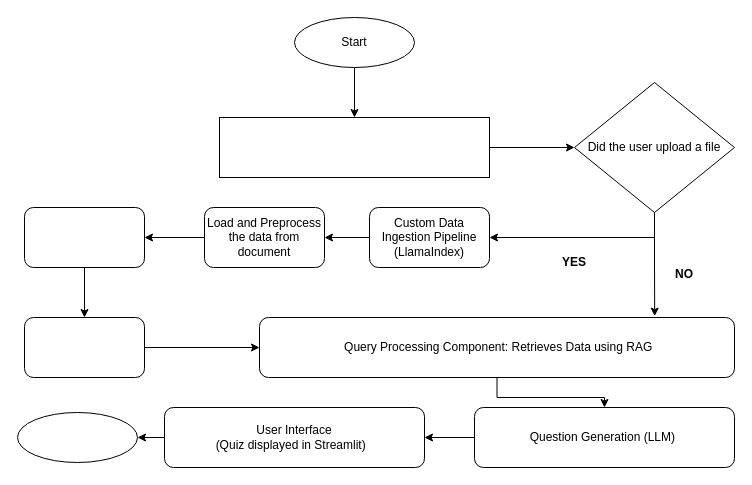
This 752x485 diagram has some shape labels left out. Here are the shapes that lost their labels. From the top down, the centre of each, then its label:
At (x=354, y=147): "Get user data via Streamlit Application".
At (x=84, y=237): "Vectorization Module (converts data to vectors)".
At (x=84, y=347): "Store Embeddings in Vector DB (Milvus or Pinecone)".
At (x=77, y=437): "Stop".
